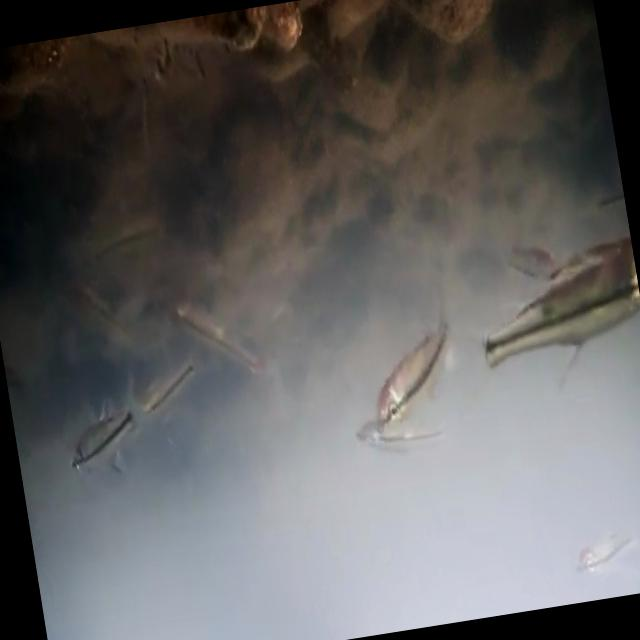Cakil Baligi: (356, 292, 469, 434), (58, 391, 150, 478), (567, 523, 640, 585)
